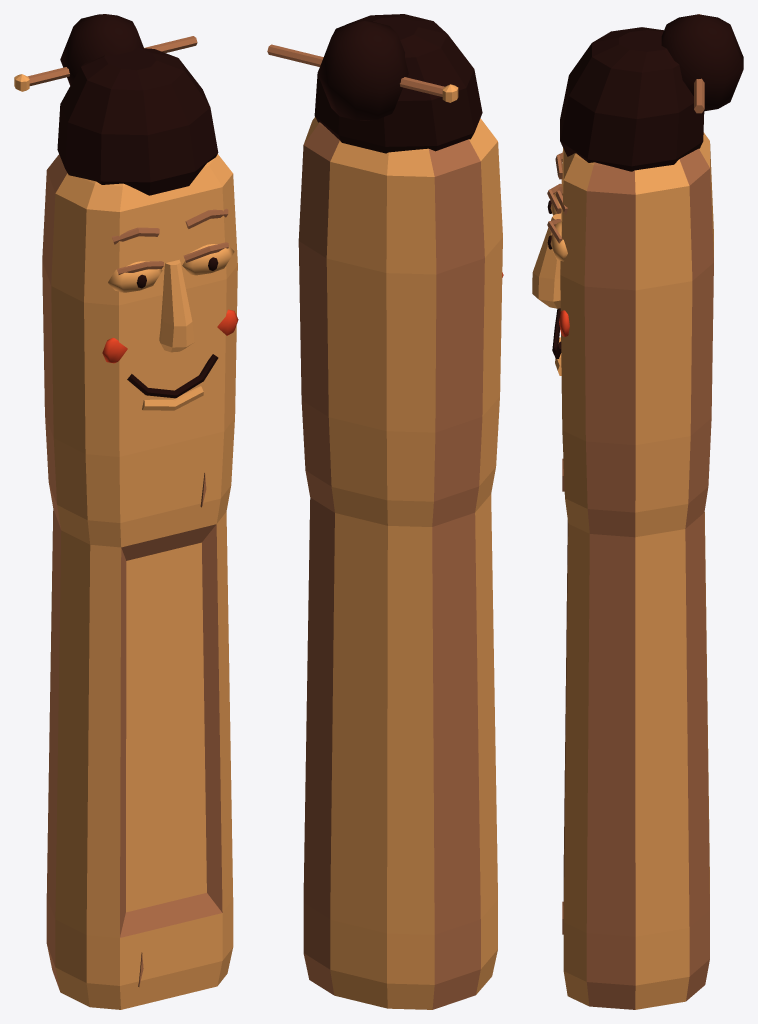
The model's file is jangseungEarth.glb.
3 renders of one model, left to right at view 1: azimuth 30°, elevation 25°; view 2: azimuth 150°, elevation 25°; view 3: azimuth 270°, elevation 25°, orthographic. The views are drawn at different scales.
Visible parts, largest first — view 1: jangseungEarth; view 2: jangseungEarth; view 3: jangseungEarth.
Boxes of the visible parts, x1=… form: jangseungEarth: x1=14, y1=14, x2=238, y2=1009; jangseungEarth: x1=267, y1=14, x2=503, y2=1009; jangseungEarth: x1=532, y1=14, x2=743, y2=1009.
Bounding box in the file's own units: 0.86 × 4.3 × 0.86.
1 material, 1 textured.
